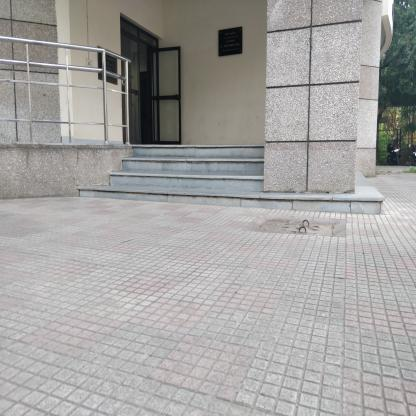stairs: (134, 144, 264, 210)
